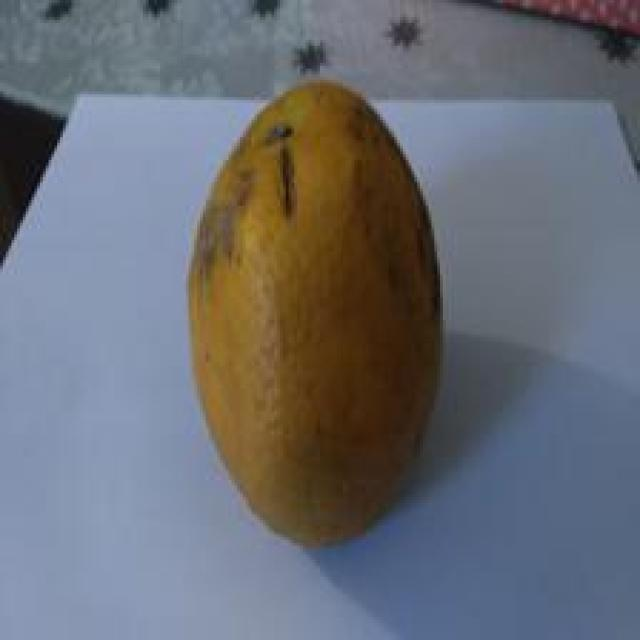overripe: (177, 71, 452, 559)
